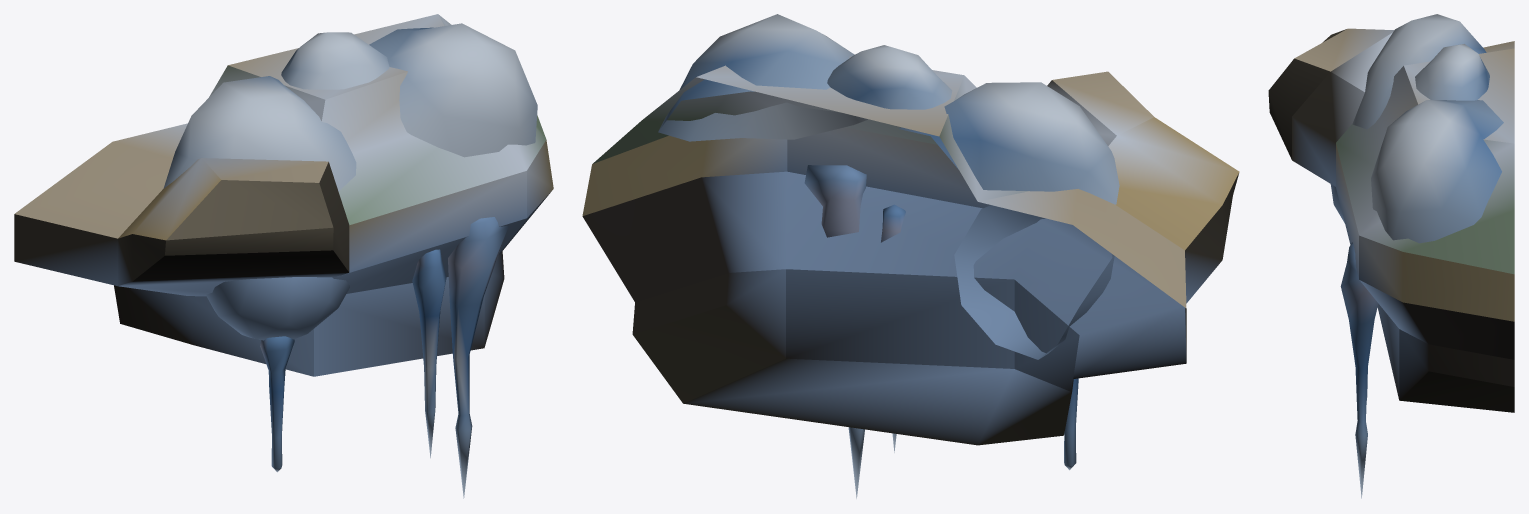
File: Cliff_04.fbx
The picture shows the model from 3 angles, left to right: view 1: azimuth 30°, elevation 25°; view 2: azimuth 150°, elevation 25°; view 3: azimuth 270°, elevation 25°; orthographic projection. The views are drawn at different scales.
Visible parts, largest first — view 1: Cliff_04; view 2: Cliff_04; view 3: Cliff_04.
Boxes of the visible parts, bbox=[...] form: Cliff_04: bbox=[14, 14, 553, 498]; Cliff_04: bbox=[582, 14, 1239, 498]; Cliff_04: bbox=[1268, 14, 1514, 498].
Bounding box in the file's own units: 3497 × 2879 × 1539.
